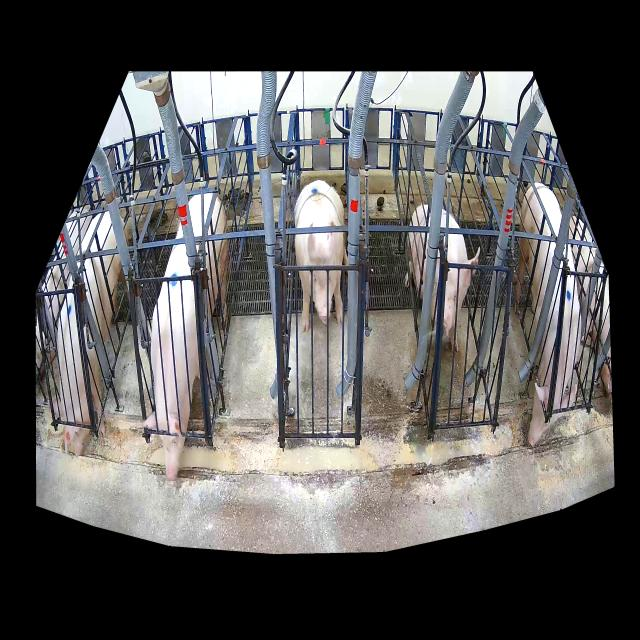pig: (143, 193, 228, 481), (53, 211, 130, 456), (515, 183, 582, 446), (405, 209, 480, 351), (294, 180, 348, 332)
